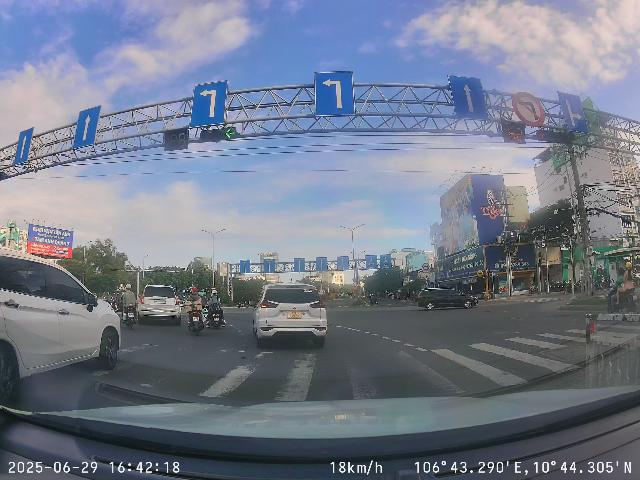123a-cam-re-trai: (512, 91, 546, 126)
